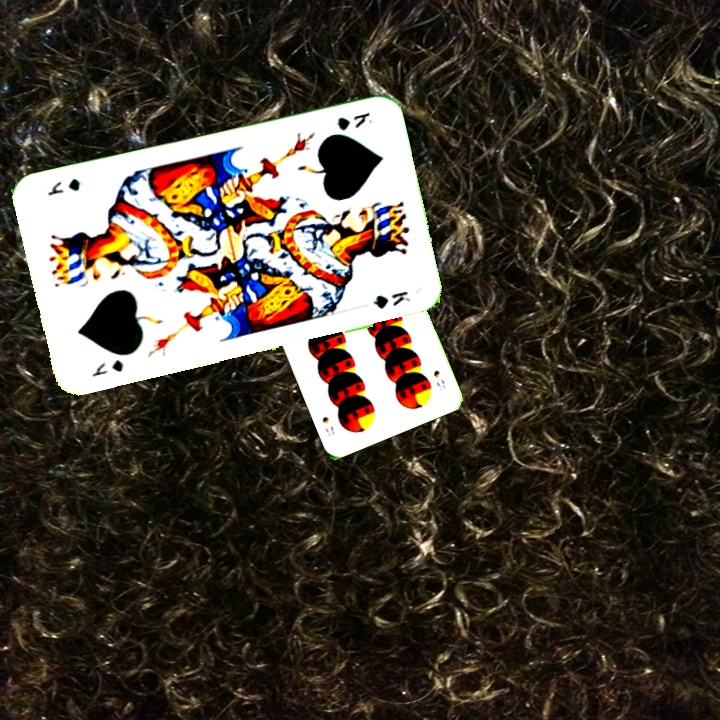GK: (333, 108, 375, 134), (88, 355, 126, 380)
S8: (429, 366, 448, 393)
